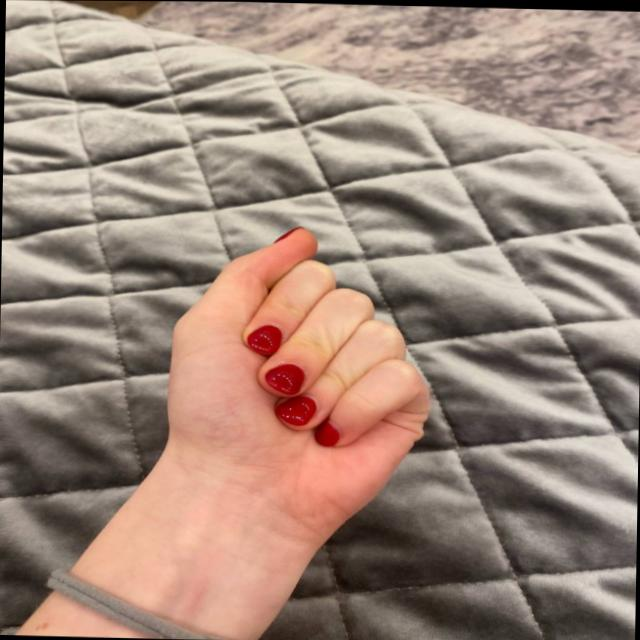a: (137, 216, 445, 458)
